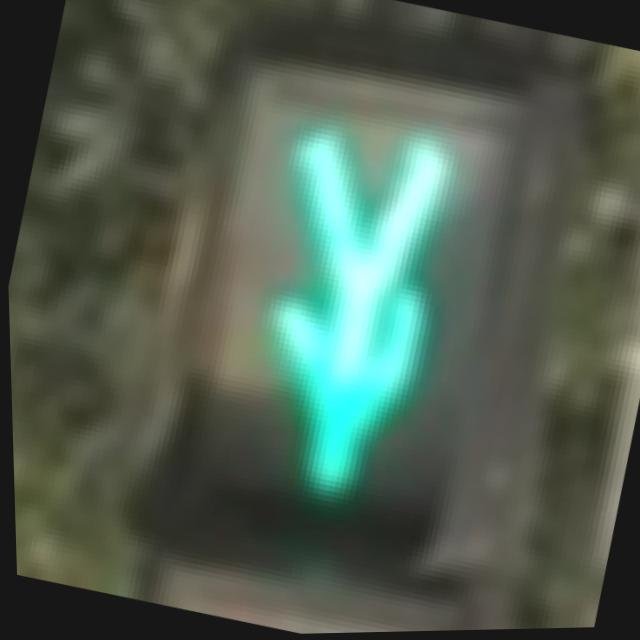green_light: (146, 67, 496, 543)
